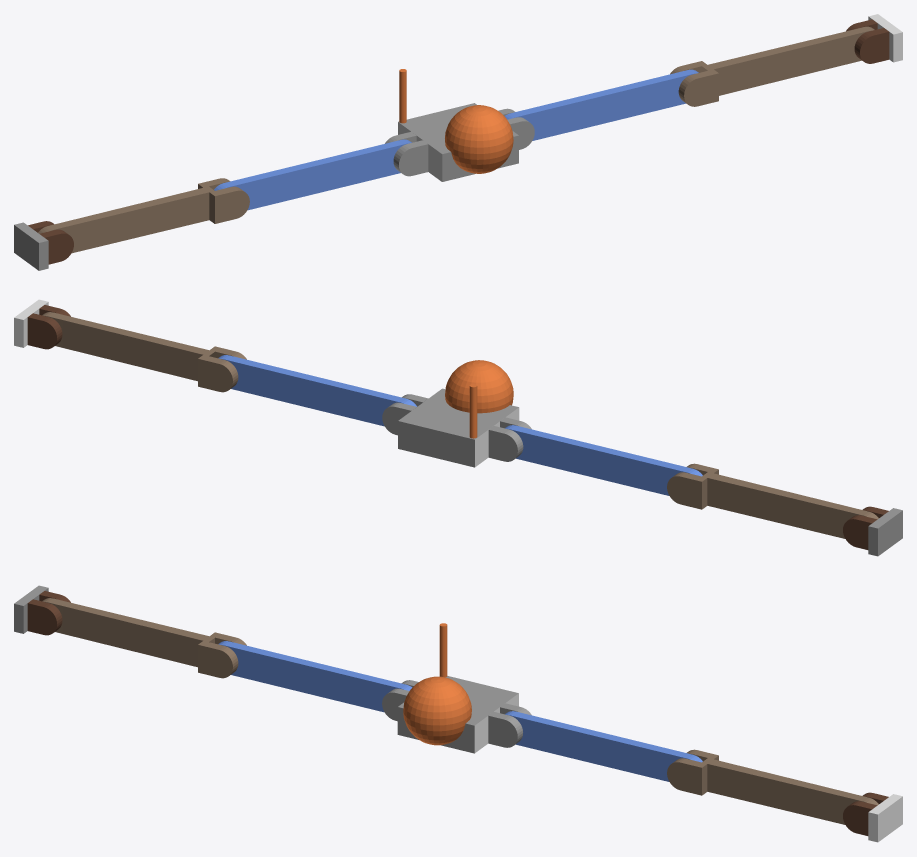
File: 2DWalker_v0_1.gltf
The picture shows the model from 3 angles, top to bottom: view 1: azimuth 30°, elevation 25°; view 2: azimuth 150°, elevation 25°; view 3: azimuth 330°, elevation 25°; orthographic projection.
Visible parts, largest first — view 1: Base, LowerLegLeft, LowerLegRight, UpperLegRight, UpperLegLeft, FootRight, FootLeft; view 2: Base, LowerLegLeft, LowerLegRight, UpperLegLeft, UpperLegRight, FootRight, FootLeft; view 3: Base, LowerLegRight, LowerLegLeft, UpperLegLeft, UpperLegRight, FootLeft, FootRight.
Boxes of the visible parts, x1,y1,x2,y2 form: Base: [385, 69, 534, 181]; LowerLegLeft: [670, 26, 874, 106]; LowerLegRight: [38, 178, 249, 253]; UpperLegRight: [214, 139, 411, 210]; UpperLegLeft: [504, 69, 698, 140]; FootRight: [14, 221, 73, 270]; FootLeft: [846, 14, 902, 63]; Base: [382, 360, 531, 467]; LowerLegLeft: [42, 312, 246, 392]; LowerLegRight: [667, 463, 878, 538]; UpperLegLeft: [218, 355, 416, 426]; UpperLegRight: [505, 425, 702, 495]; FootRight: [843, 506, 902, 556]; FootLeft: [14, 299, 70, 349]; Base: [382, 623, 531, 753]; LowerLegRight: [42, 598, 246, 678]; LowerLegLeft: [667, 749, 878, 824]; UpperLegLeft: [505, 711, 702, 781]; UpperLegRight: [218, 641, 412, 712]; FootLeft: [843, 792, 902, 842]; FootRight: [14, 585, 70, 635].
Bounding box in the file's own units: 22.5 × 1.98 × 2.71.
